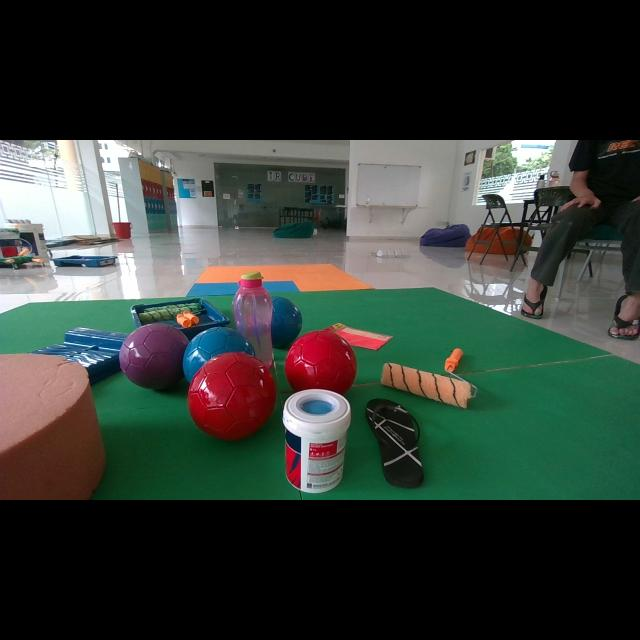B: (182, 326, 255, 382), (271, 298, 301, 348)
P: (119, 324, 189, 389)
R: (188, 352, 276, 440), (285, 330, 358, 394)
